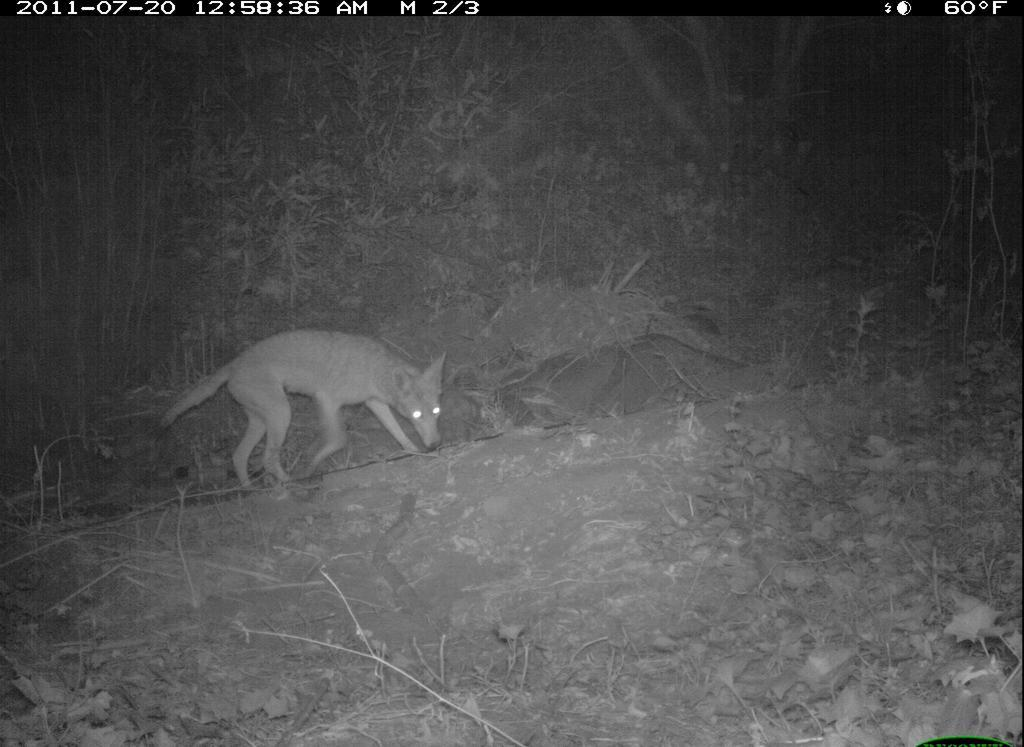coyote: (152, 323, 456, 516)
